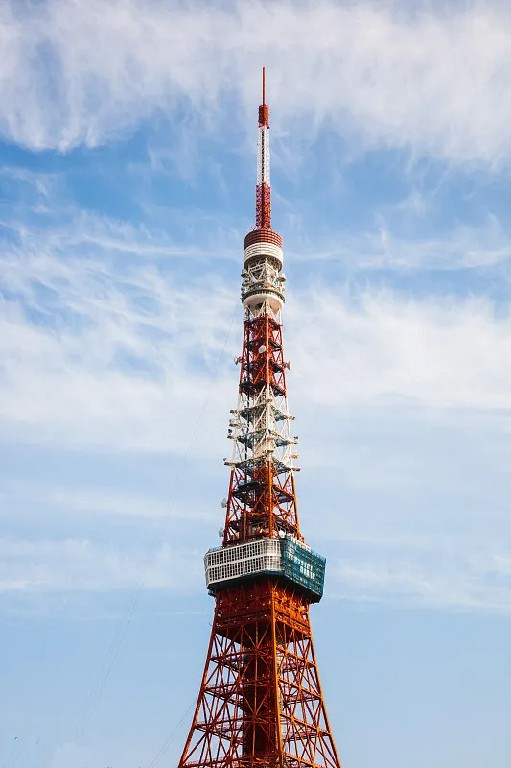Tokyo: (176, 62, 343, 767)
